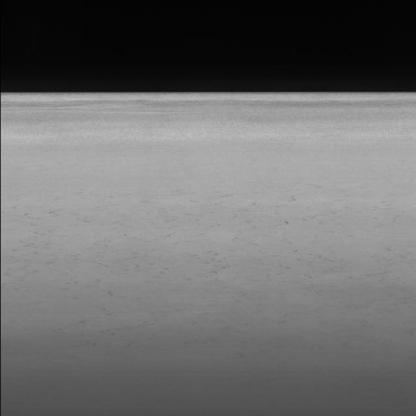silk_spot: (21, 193, 337, 290)
